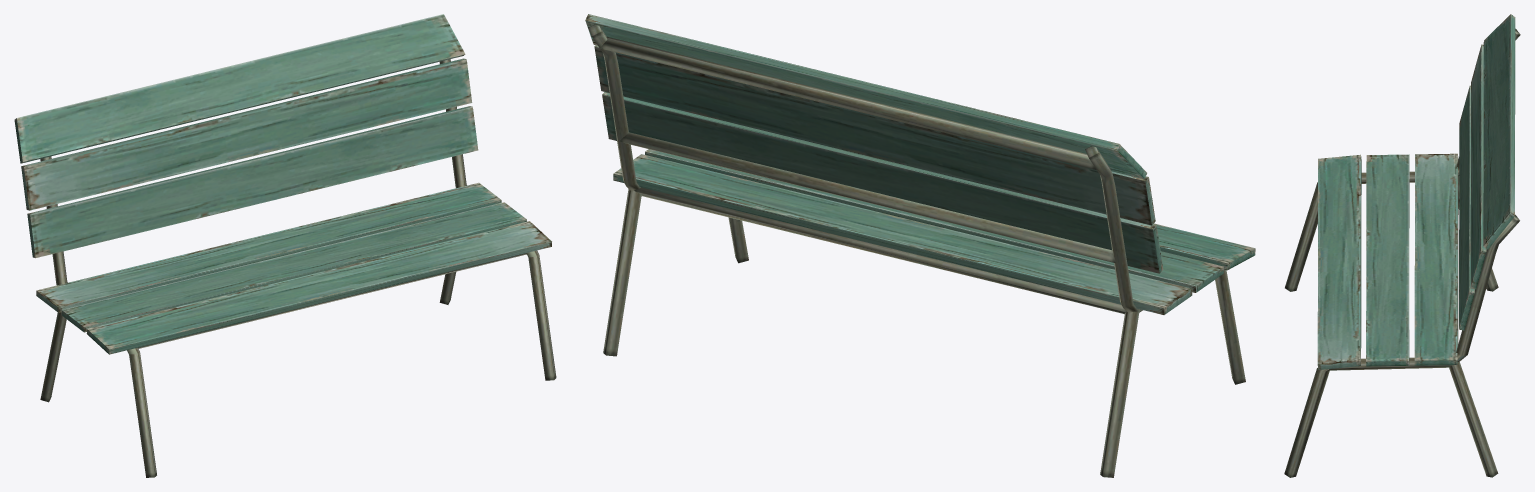
The model's file is SceneModel_objects_007.FBX.
The picture shows the model from 3 angles, left to right: view 1: azimuth 30°, elevation 25°; view 2: azimuth 150°, elevation 25°; view 3: azimuth 270°, elevation 25°; orthographic projection. The views are drawn at different scales.
Parts seen in each view (by area): view 1: SceneModel_objects_007; view 2: SceneModel_objects_007; view 3: SceneModel_objects_007.
Part boxes in pixels (x1,y1,x2,y2): SceneModel_objects_007: [14, 14, 556, 477]; SceneModel_objects_007: [585, 14, 1255, 477]; SceneModel_objects_007: [1284, 14, 1520, 477].
Bounding box in the file's own units: 173 × 105 × 84.08.
